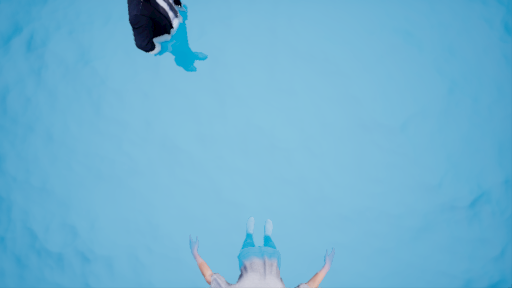person: (186, 214, 335, 288)
